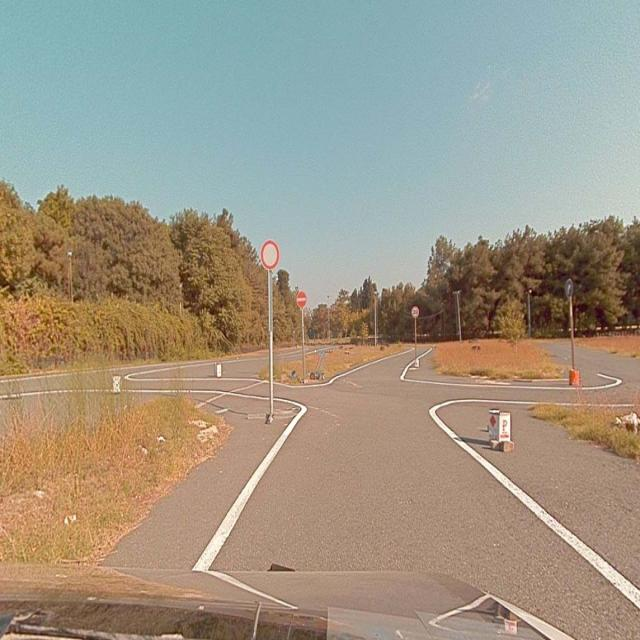girisyok: (297, 291, 307, 306)
